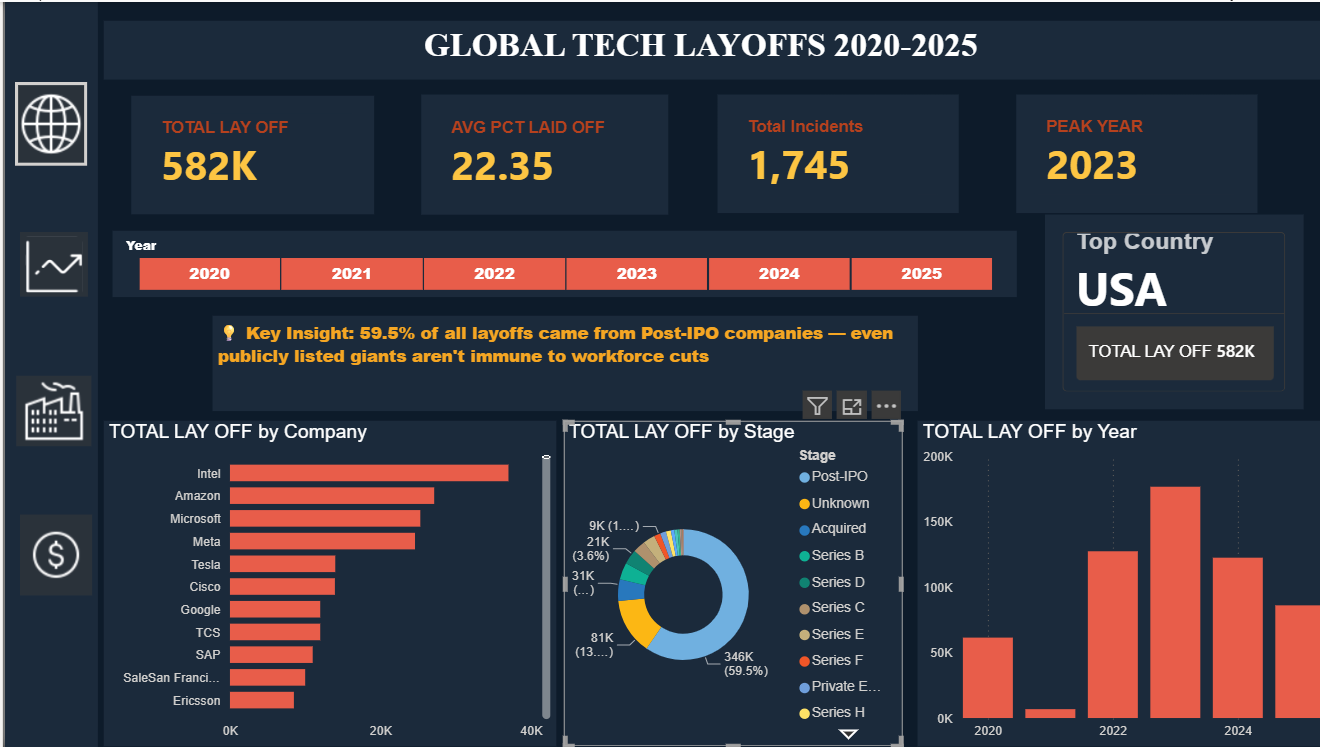

This screenshot's page, from the dashboard's own definition file:
{"tool":"powerbi","page":{"name":"Overview","canvas":[1280,720],"ordinal":0},"visuals":[{"type":"cardVisual","title":"Avg%cut","fields":{"Data":["Cleaned_tech_layoffs.AVG PCT LAID OFF"]},"box":[401.6,89.2,238.4,115.7],"z":0},{"type":"shape","box":[0,0,89.2,720.9],"z":1000},{"type":"textbox","box":[94.8,18.1,1185.2,57.2],"z":2000},{"type":"clusteredBarChart","fields":{"Category":["Cleaned_tech_layoffs.Company"],"Y":["Cleaned_tech_layoffs.TOTAL LAY OFFF"]},"box":[94.8,404.4,436.4,315.1],"z":3000},{"type":"slicer","fields":{"Values":["Cleaned_tech_layoffs.Year"]},"box":[103.2,220.3,872.9,64.1],"z":4000},{"type":"clusteredColumnChart","fields":{"Category":["Cleaned_tech_layoffs.Year"],"Y":["Cleaned_tech_layoffs.TOTAL LAY OFFF"]},"box":[881.2,404.4,398.8,315.1],"z":5000},{"type":"cardVisual","title":"Avg%cut","fields":{"Data":["Cleaned_tech_layoffs.TOTAL LAY OFF"]},"box":[121.3,90.6,234.2,114.3],"z":6000},{"type":"cardVisual","title":"Avg%cut","fields":{"Data":["Cleaned_tech_layoffs.TOTAL INCIDENTS"]},"box":[687.4,89.2,232.9,114.3],"z":7000},{"type":"cardVisual","title":"Avg%cut","fields":{"Data":["Cleaned_tech_layoffs.PEAK YEAR"]},"box":[976,89.2,232.9,114.3],"z":8000},{"type":"donutChart","fields":{"Category":["Cleaned_tech_layoffs.Stage"],"Y":["Cleaned_tech_layoffs.TOTAL LAY OFF"]},"box":[539.6,404.4,326.3,315.1],"z":9000},{"type":"actionButton","box":[13.9,495,69.7,78.1],"z":10000},{"type":"actionButton","box":[11.2,361.1,72.5,68.3],"z":11000},{"type":"actionButton","box":[13.9,221.7,65.5,62.7],"z":12000},{"type":"actionButton","box":[9.7,90.5,70,57.9],"z":13000},{"type":"cardVisual","fields":{"Data":["Cleaned_tech_layoffs.Top Country"]},"box":[991.7,208.7,249.7,188.2],"z":14000},{"type":"textbox","box":[200.8,302.6,680.4,92],"z":15000}]}

Visuals, with their boxes in screenshot pixels (x1, y1, x2, y2), scaled from the page's 1280x720 canvas onto the 1320x747 screenshot:
"Avg%cut" cardVisual: {"left": 414, "top": 93, "right": 660, "bottom": 213}
shape: {"left": 0, "top": 0, "right": 92, "bottom": 746}
textbox: {"left": 98, "top": 19, "right": 1319, "bottom": 78}
clusteredBarChart - Cleaned_tech_layoffs.Company x Cleaned_tech_layoffs.TOTAL LAY OFFF: {"left": 98, "top": 420, "right": 548, "bottom": 746}
slicer - Cleaned_tech_layoffs.Year: {"left": 106, "top": 229, "right": 1007, "bottom": 295}
clusteredColumnChart - Cleaned_tech_layoffs.Year x Cleaned_tech_layoffs.TOTAL LAY OFFF: {"left": 909, "top": 420, "right": 1319, "bottom": 746}
"Avg%cut" cardVisual: {"left": 125, "top": 94, "right": 367, "bottom": 213}
"Avg%cut" cardVisual: {"left": 709, "top": 93, "right": 949, "bottom": 211}
"Avg%cut" cardVisual: {"left": 1006, "top": 93, "right": 1247, "bottom": 211}
donutChart - Cleaned_tech_layoffs.Stage x Cleaned_tech_layoffs.TOTAL LAY OFF: {"left": 556, "top": 420, "right": 893, "bottom": 746}
actionButton: {"left": 14, "top": 514, "right": 86, "bottom": 595}
actionButton: {"left": 12, "top": 375, "right": 86, "bottom": 446}
actionButton: {"left": 14, "top": 230, "right": 82, "bottom": 295}
actionButton: {"left": 10, "top": 94, "right": 82, "bottom": 154}
cardVisual - Cleaned_tech_layoffs.Top Country: {"left": 1023, "top": 217, "right": 1280, "bottom": 412}
textbox: {"left": 207, "top": 314, "right": 909, "bottom": 409}
